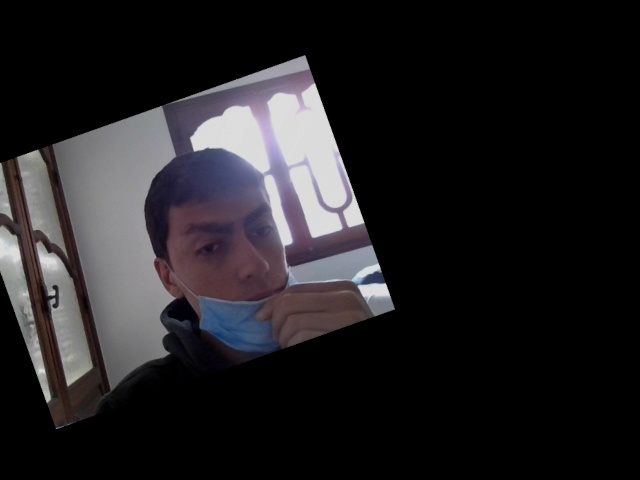mask_weared_incorrect: (167, 161, 311, 366)
